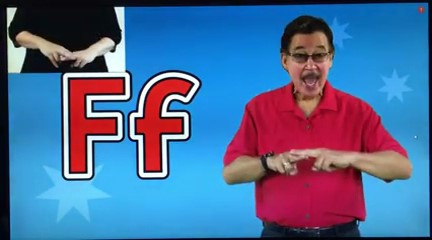F: (271, 145, 350, 179), (41, 35, 101, 71)
